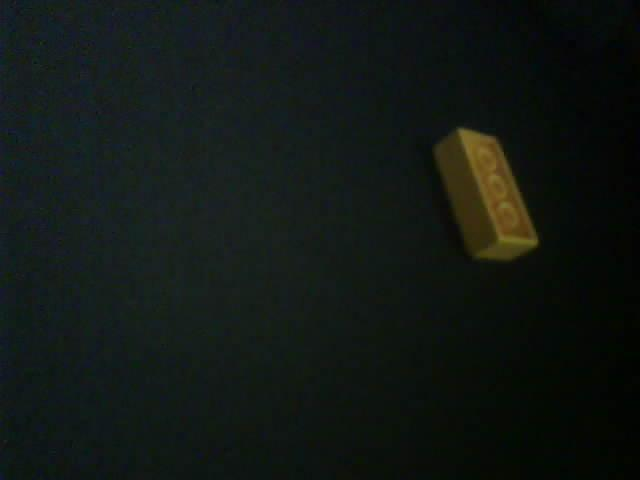lego: (432, 127, 540, 262)
